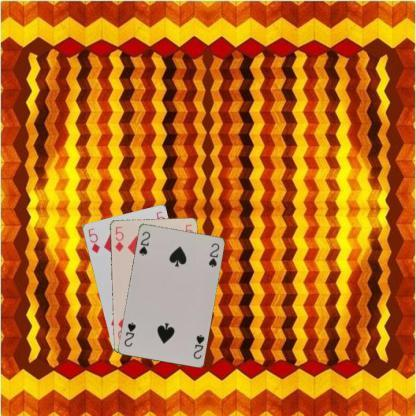2s: (190, 332, 206, 361), (136, 228, 152, 256)
5d: (86, 225, 100, 254), (112, 224, 124, 253)
